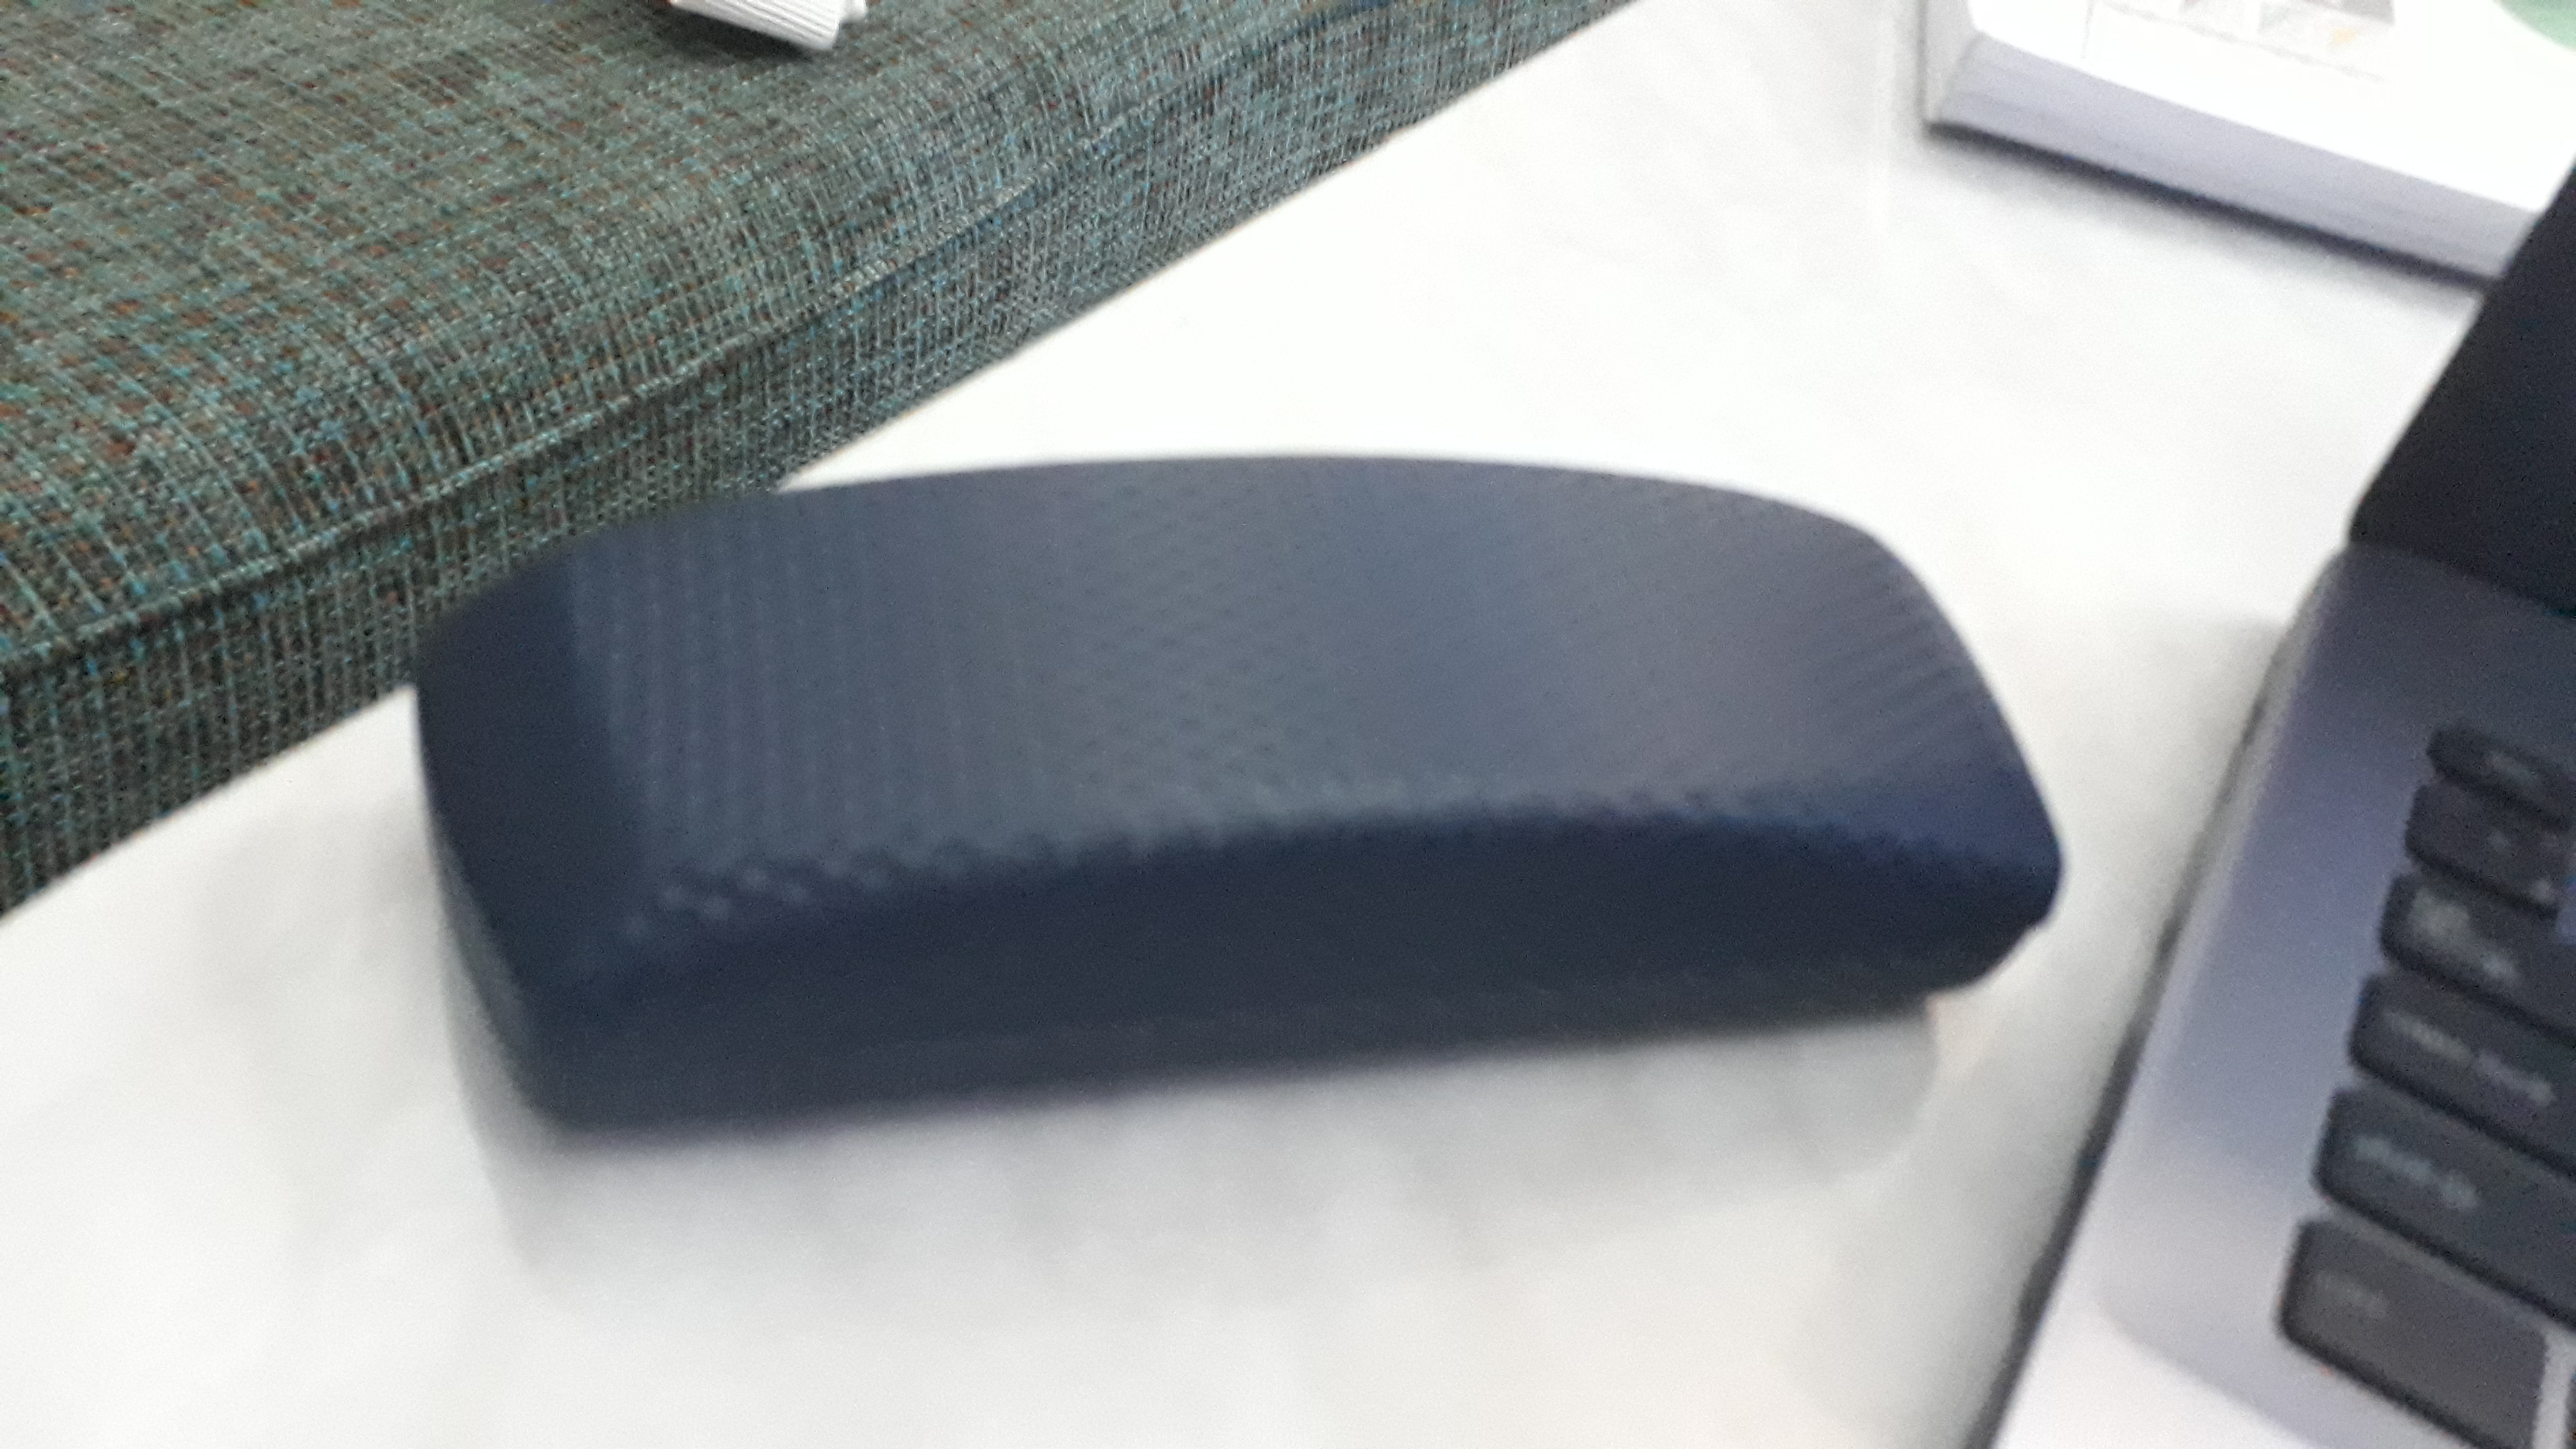nadar: (403, 403, 2052, 1203)
